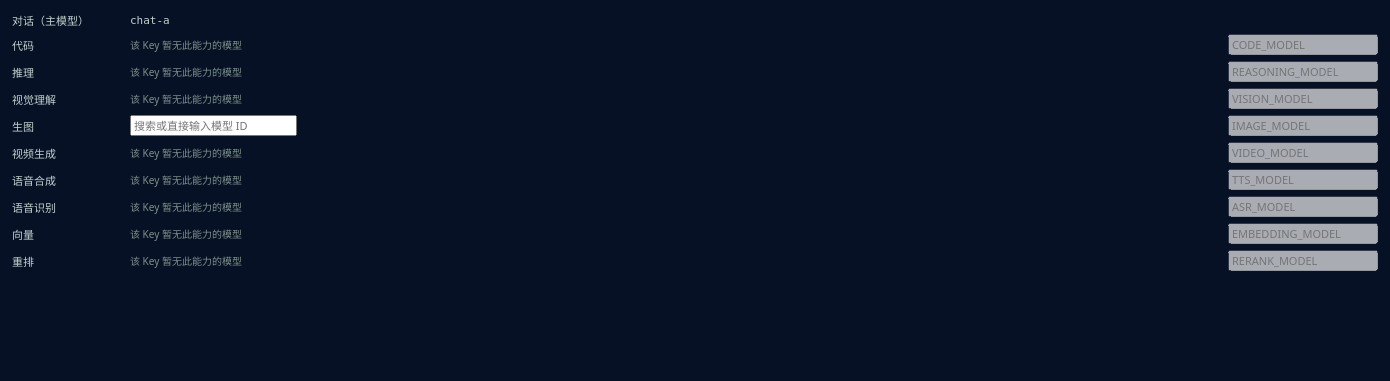
Scenario: CapabilityModelsEditor with many candidates › uses a searchable control above 15 candidates and allows a typed id
The width and height of the screenshot is (1390, 381).
Click the dropdown named "生图 默认模型": (214, 126) [130,115,297,136]
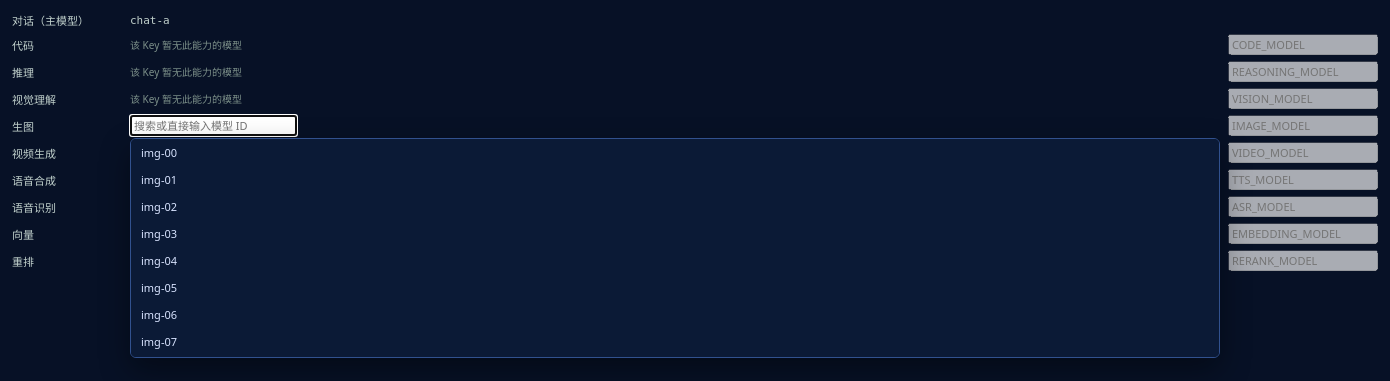
In the dropdown named "生图 默认模型": (214, 126) [130,115,297,136], type "img-1"
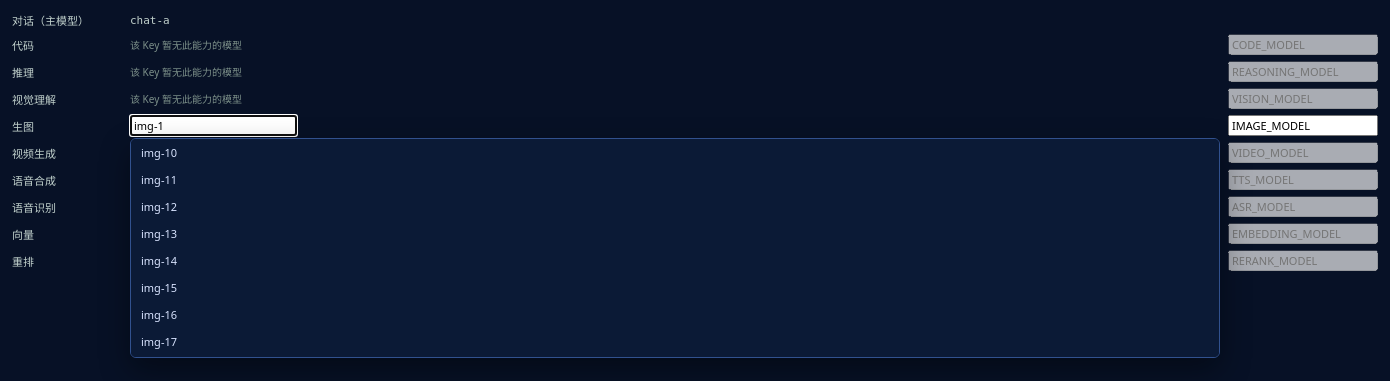
In the dropdown named "生图 默认模型": (214, 126) [130,115,297,136], type "x"
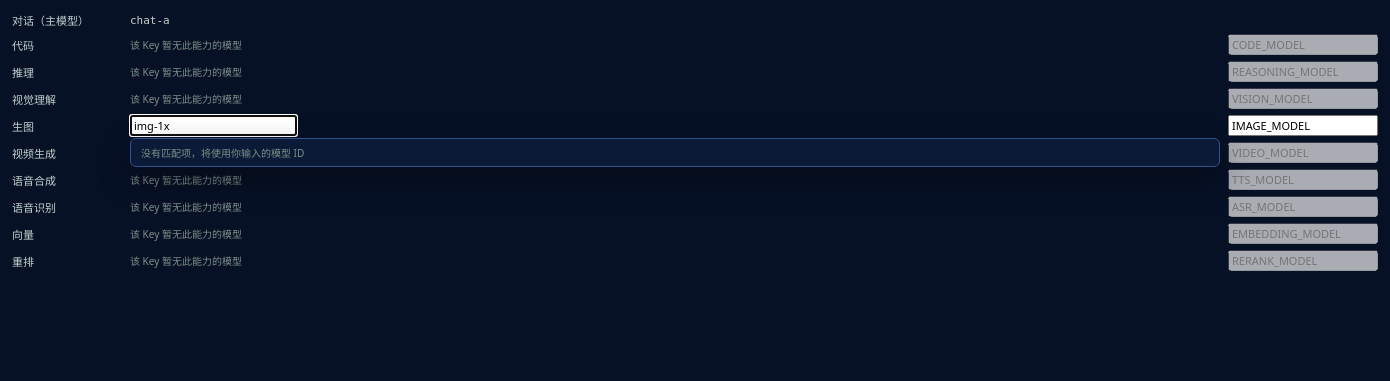
Result: the text "没有匹配项，将使用你输入的模型 ID" is shown at [141,146,304,160]
